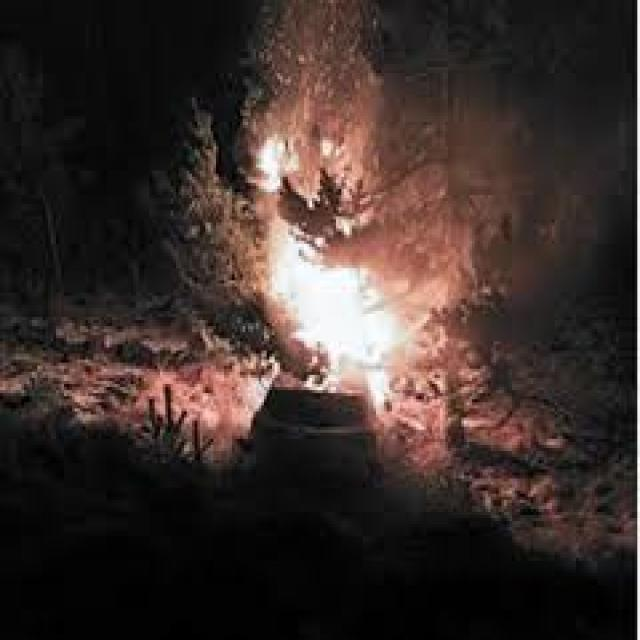Fire: (248, 119, 418, 428)
